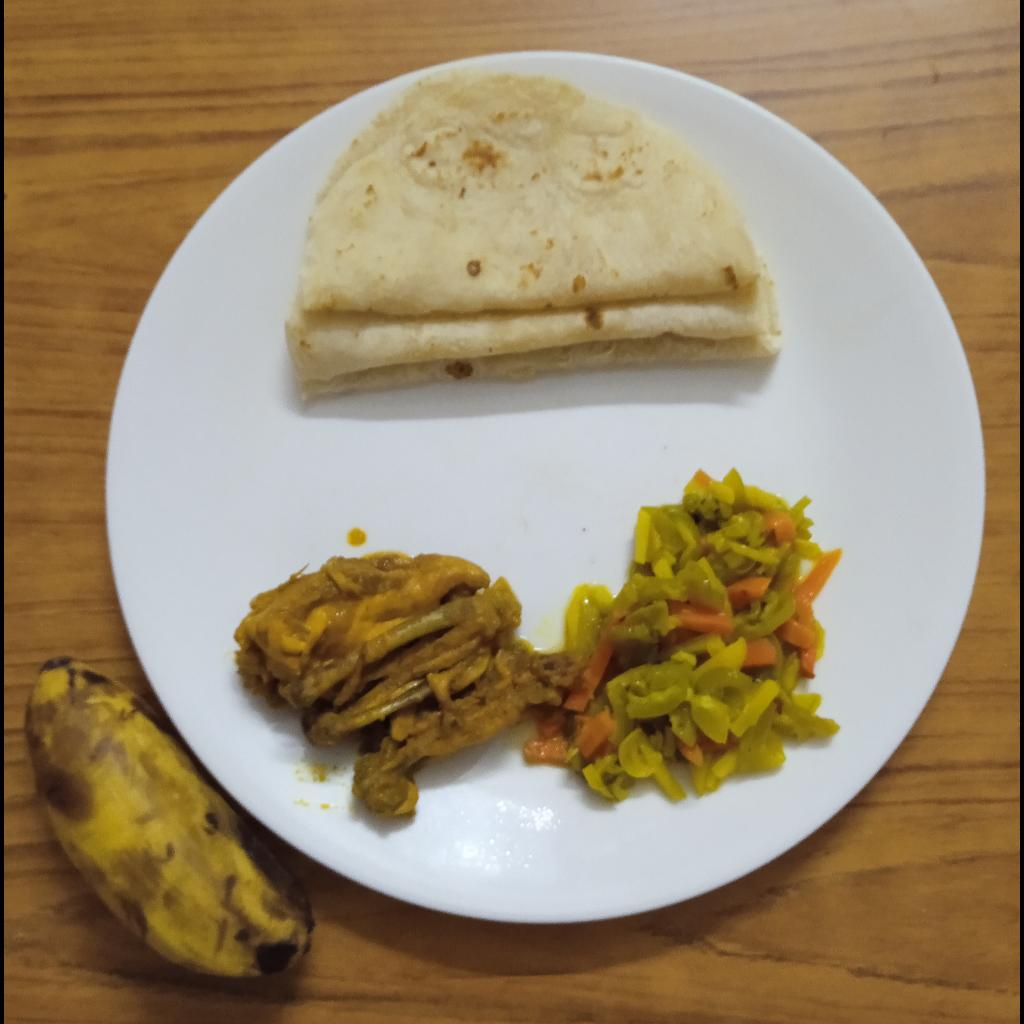banana: (26, 657, 314, 982)
chichinga-vaji: (521, 464, 840, 805)
chicken: (231, 554, 566, 821)
ruti: (285, 73, 777, 403)
